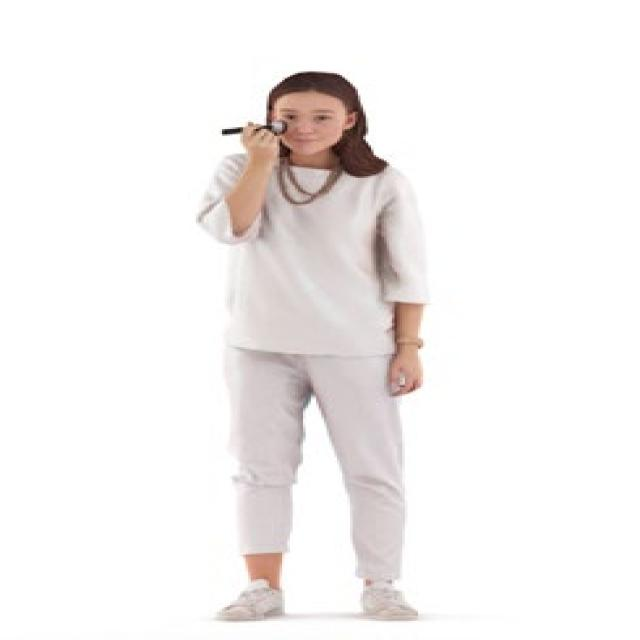standing: (188, 72, 430, 626)
